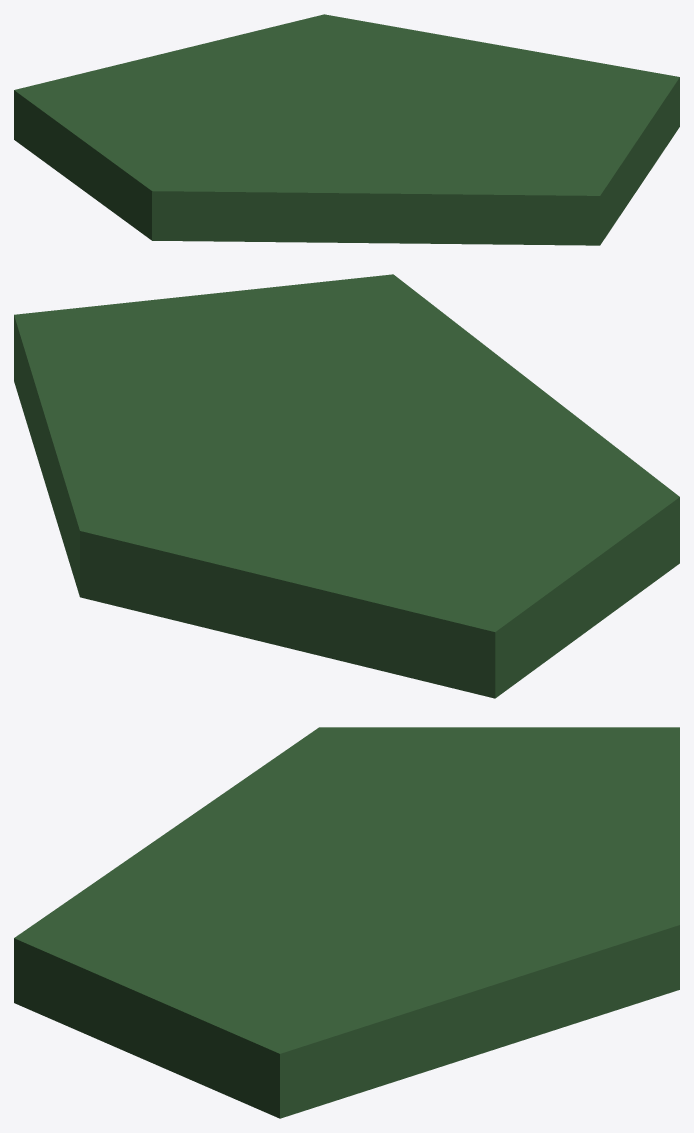
The model's file is x_proval_00_139_1_rmstrd.fbx.
3 views of the same model, one above another, from view 1: azimuth 30°, elevation 25°; view 2: azimuth 150°, elevation 25°; view 3: azimuth 270°, elevation 25° (orthographic). The views are drawn at different scales.
Visible parts, largest first — view 1: x_proval_00_139_1_rmstrd1; view 2: x_proval_00_139_1_rmstrd1; view 3: x_proval_00_139_1_rmstrd1.
Boxes of the visible parts, x1,y1,x2,y2 form: x_proval_00_139_1_rmstrd1: [14, 14, 679, 245]; x_proval_00_139_1_rmstrd1: [14, 274, 679, 698]; x_proval_00_139_1_rmstrd1: [14, 727, 679, 1118].
Size of the model in its own units: 2.16 by 0.2 by 1.86.
